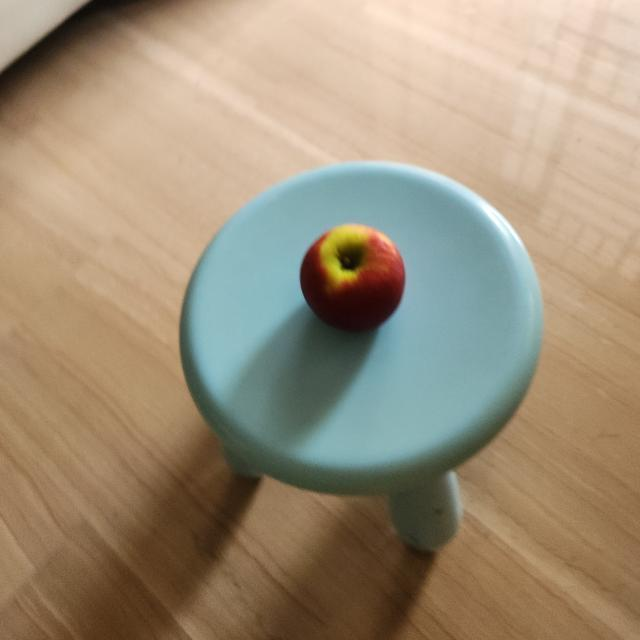apple: (299, 218, 413, 342)
